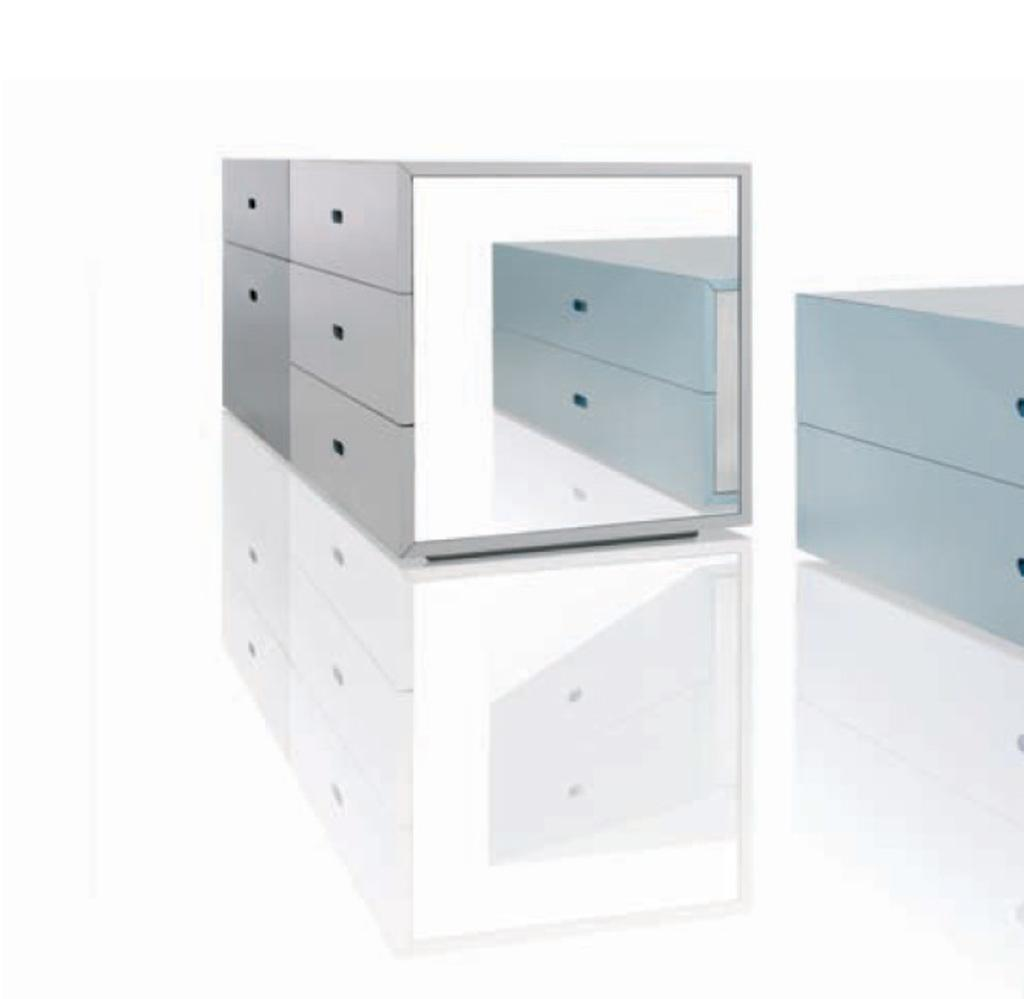cabinet_door: (817, 449, 1024, 616), (824, 301, 1024, 454), (514, 354, 716, 442), (510, 260, 696, 340), (220, 238, 297, 422), (296, 265, 398, 382), (304, 384, 398, 504), (290, 164, 396, 264), (223, 165, 284, 229)
handle: (326, 196, 348, 238), (564, 287, 591, 318), (241, 282, 268, 312), (331, 427, 349, 460), (572, 386, 591, 415), (1011, 540, 1024, 581), (332, 318, 347, 350), (241, 196, 263, 215), (1014, 386, 1024, 426)
